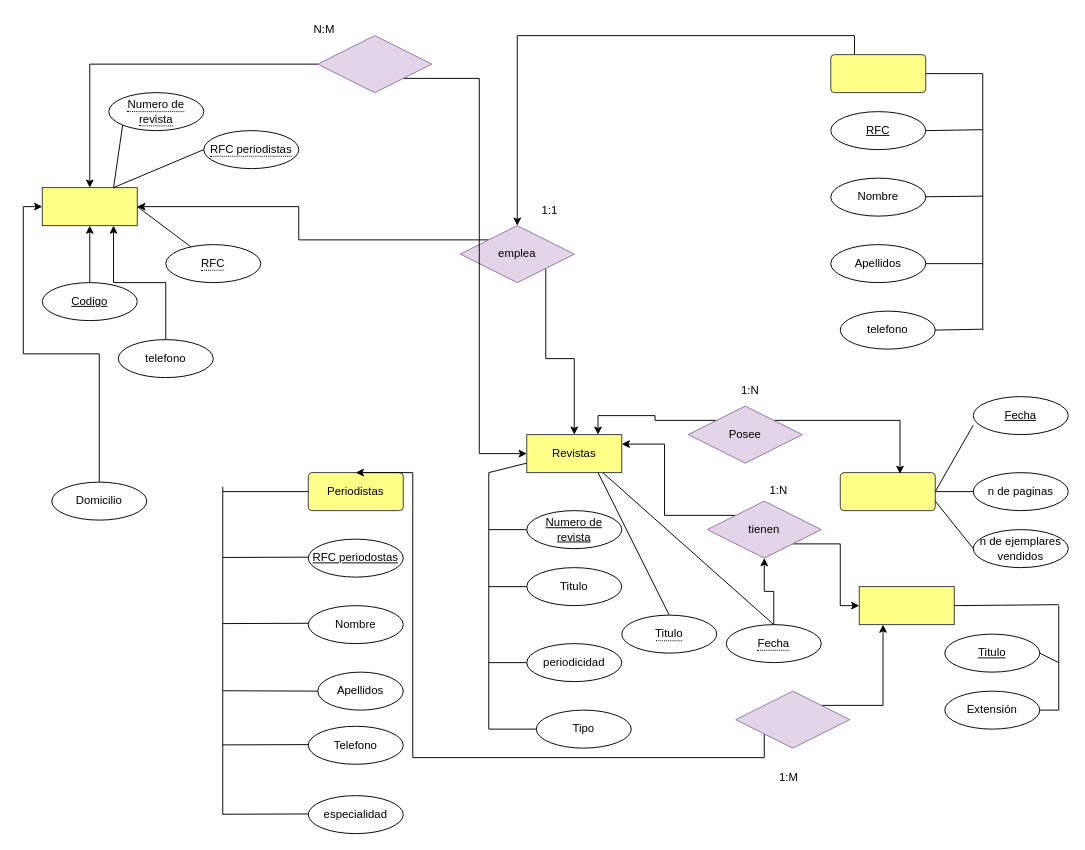
The diagram is 1085 pixels wide and 850 high, and some of its shapes have lost their labels. The shapes that lost their labels are listed below. From the top down, each one's centre as x and y in pixels, then its label:
[374,64]: publicar
[878,73]: Empleados
[89,206]: Sucursales
[887,491]: ejemplares
[906,605]: secciones
[792,719]: esciben
